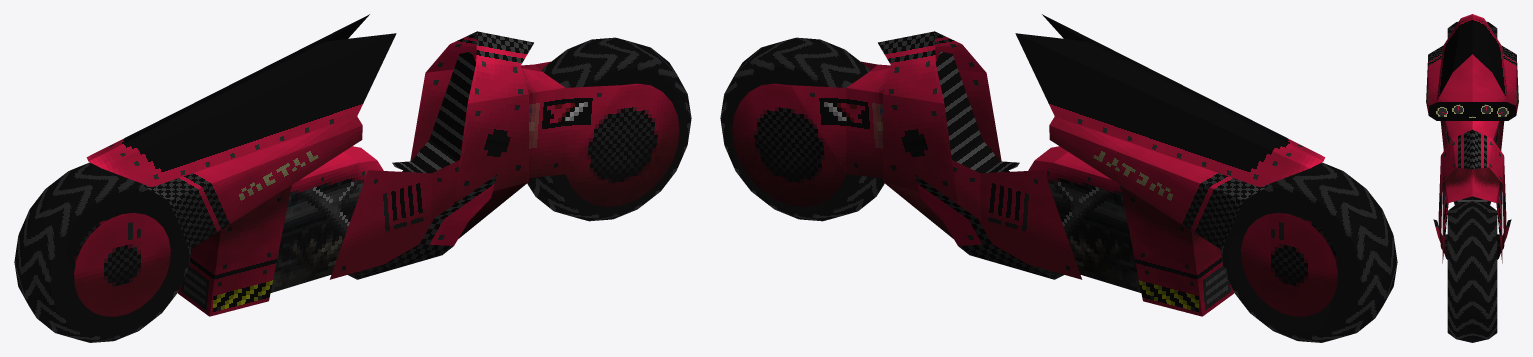
File: bike.glb
3 renders of one model, left to right at view 1: azimuth 30°, elevation 25°; view 2: azimuth 150°, elevation 25°; view 3: azimuth 270°, elevation 25°, orthographic. The views are drawn at different scales.
Parts seen in each view (by area): view 1: Bike, Tires; view 2: Bike, Tires; view 3: Bike, Tires.
Boxes of the visible parts, left/top/right/bottom form: Bike: left=74, top=14, right=679, bottom=316; Tires: left=14, top=37, right=691, bottom=342; Bike: left=732, top=14, right=1337, bottom=316; Tires: left=720, top=37, right=1397, bottom=342; Bike: left=1426, top=14, right=1518, bottom=263; Tires: left=1447, top=21, right=1497, bottom=342.
Bounding box in the file's own units: 3.9 × 1.38 × 0.6287.
2 materials, 2 textured.
